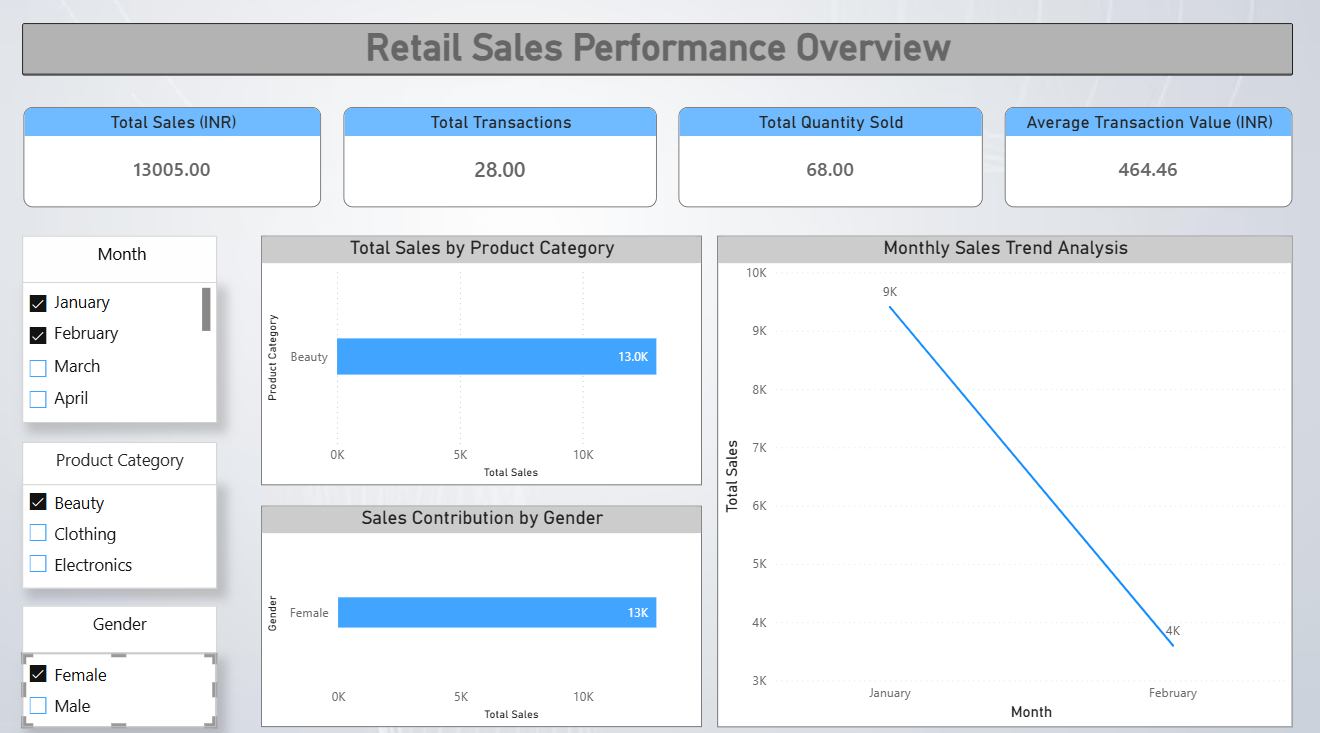

Layout of this report page (visuals, bound fields, positions):
{"tool":"powerbi","page":{"name":"Page 1","canvas":[1280,720],"ordinal":0},"visuals":[{"type":"cardVisual","title":"Total Sales (INR)","fields":{"Data":["Cleaned_Data.Total Sales"]},"box":[26.2,110.9,287.3,96.6],"z":0},{"type":"cardVisual","title":"Total Quantity Sold","fields":{"Data":["Cleaned_Data.Total Quantity"]},"box":[659.2,110.9,293.2,96.6],"z":1000},{"type":"cardVisual","title":"Average Transaction Value (INR)","fields":{"Data":["Cleaned_Data.Avg Transaction Value"]},"box":[973.9,110.9,277.7,96.6],"z":2000},{"type":"clusteredBarChart","fields":{"Category":["Cleaned_Data.Product Category"],"Y":["Cleaned_Data.Total Sales"]},"box":[256.3,234.8,425.6,240.8],"z":3000},{"type":"lineChart","title":"Monthly Sales Trend Analysis","fields":{"Category":["Cleaned_Data.Date.Variation.Date Hierarchy.Month"],"Y":["Cleaned_Data.Total Sales"]},"box":[696.1,234.8,555.5,474.4],"z":4000},{"type":"clusteredBarChart","title":"Sales Contribution by Gender","fields":{"Category":["Cleaned_Data.Gender"],"Y":["Cleaned_Data.Total Sales"]},"box":[256.3,495.9,425.6,213.4],"z":5000},{"type":"listSlicer","fields":{"Values":["Cleaned_Data.Product Category"]},"box":[25,472,188.3,103.7],"z":6000},{"type":"listSlicer","title":"Customer Gender","fields":{"Values":["Cleaned_Data.Gender"]},"box":[25,637.7,187.1,71.5],"z":7000},{"type":"listSlicer","title":"Select Month","fields":{"Values":["Cleaned_Data.Date.Variation.Date Hierarchy.Month"]},"box":[25,280.1,188.3,135.9],"z":8000},{"type":"textbox","title":"Retail Sales Performance Overview","box":[25,29.8,1226.6,50.1],"z":9000},{"type":"cardVisual","title":"Total Transactions","fields":{"Data":["Cleaned_Data.Total Transactions"]},"box":[335,110.9,302.8,96.6],"z":11000},{"type":"textbox","box":[25,234.8,188.3,45.3],"z":12000},{"type":"textbox","box":[25,433.9,188.3,41.7],"z":13000},{"type":"textbox","box":[25,592.4,188.3,45.3],"z":14000}]}

Visuals, with their boxes in screenshot pixels (x1, y1, x2, y2), scaled from the page's 1280x720 canvas onto the 1320x733 screenshot:
"Total Sales (INR)" cardVisual: (27,113,323,211)
"Total Quantity Sold" cardVisual: (680,113,982,211)
"Average Transaction Value (INR)" cardVisual: (1004,113,1291,211)
clusteredBarChart - Cleaned_Data.Product Category x Cleaned_Data.Total Sales: (264,239,703,484)
"Monthly Sales Trend Analysis" lineChart: (718,239,1291,722)
"Sales Contribution by Gender" clusteredBarChart: (264,505,703,722)
listSlicer - Cleaned_Data.Product Category: (26,481,220,586)
"Customer Gender" listSlicer: (26,649,219,722)
"Select Month" listSlicer: (26,285,220,424)
"Retail Sales Performance Overview" textbox: (26,30,1291,81)
"Total Transactions" cardVisual: (345,113,658,211)
textbox: (26,239,220,285)
textbox: (26,442,220,484)
textbox: (26,603,220,649)
